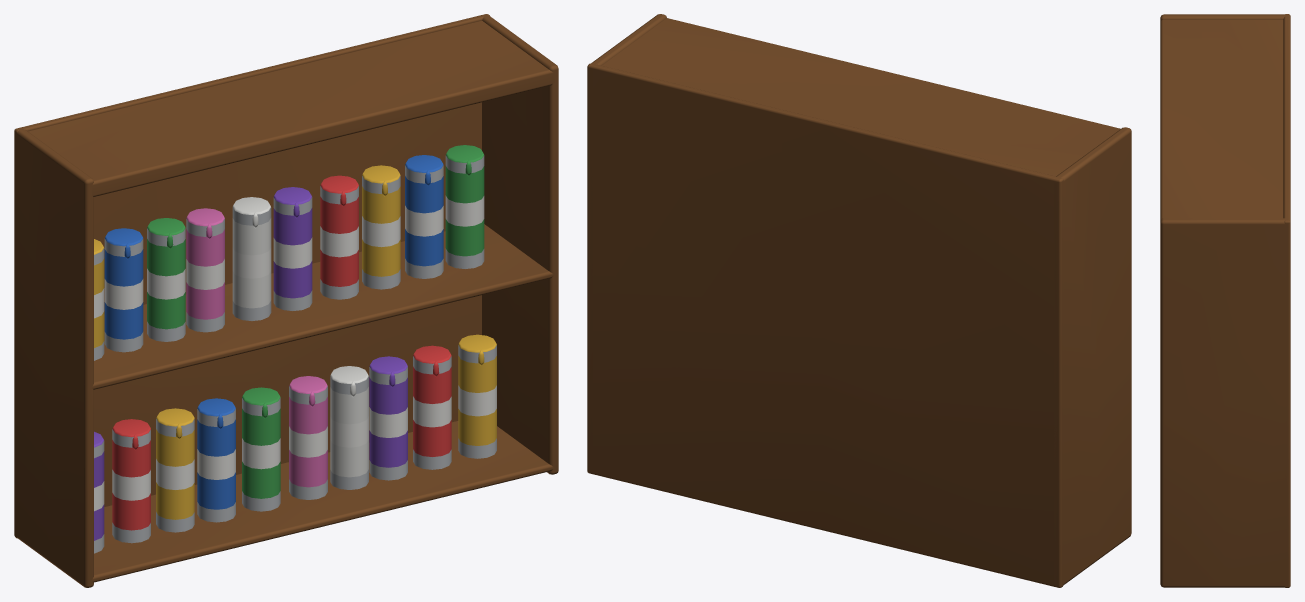
File: furn_paint_shelf.glb
3 renders of one model, left to right at view 1: azimuth 30°, elevation 25°; view 2: azimuth 150°, elevation 25°; view 3: azimuth 270°, elevation 25°, orthographic. The views are drawn at different scales.
Visible parts, largest first — view 1: furn_paint_shelf_main; view 2: furn_paint_shelf_main; view 3: furn_paint_shelf_main.
Boxes of the visible parts, bbox=[...] form: furn_paint_shelf_main: bbox=[14, 14, 558, 587]; furn_paint_shelf_main: bbox=[587, 14, 1131, 587]; furn_paint_shelf_main: bbox=[1160, 14, 1290, 587].
Bounding box in the file's own units: 1.7 × 1.4 × 0.45.
